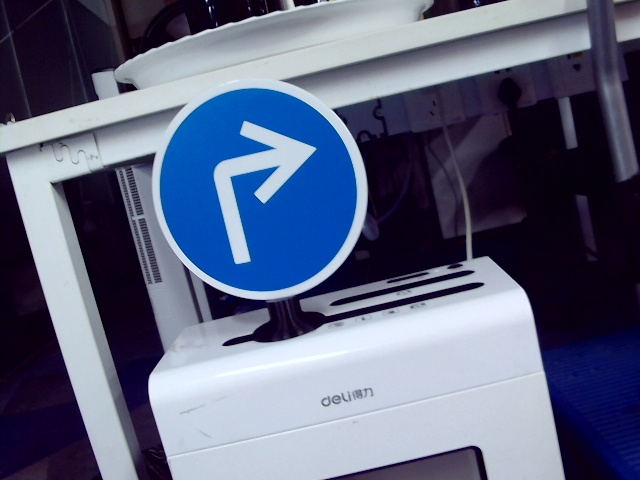turn_right: (206, 118, 318, 265)
